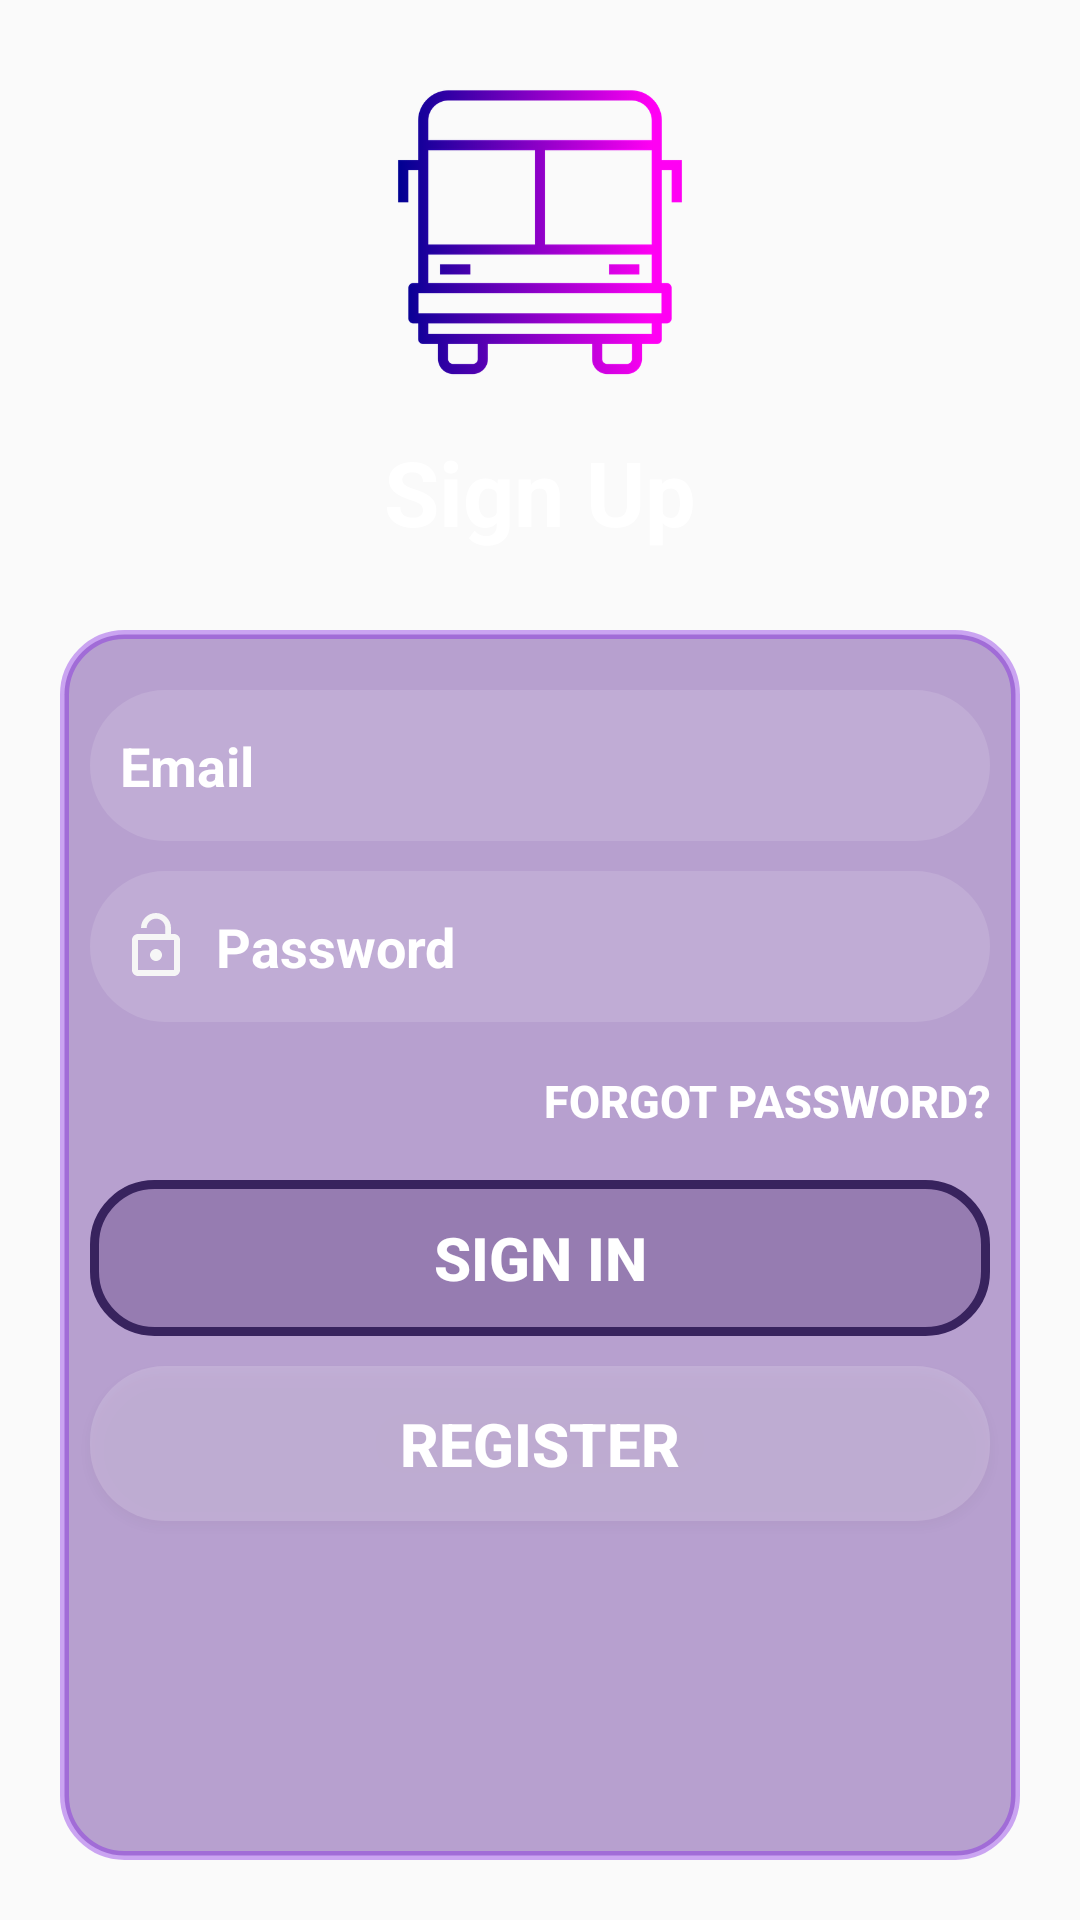

Icons on this 1080×1920 Android screen, each with its box as (x1, y1, x2, y2):
bus: (398, 90, 682, 375)
